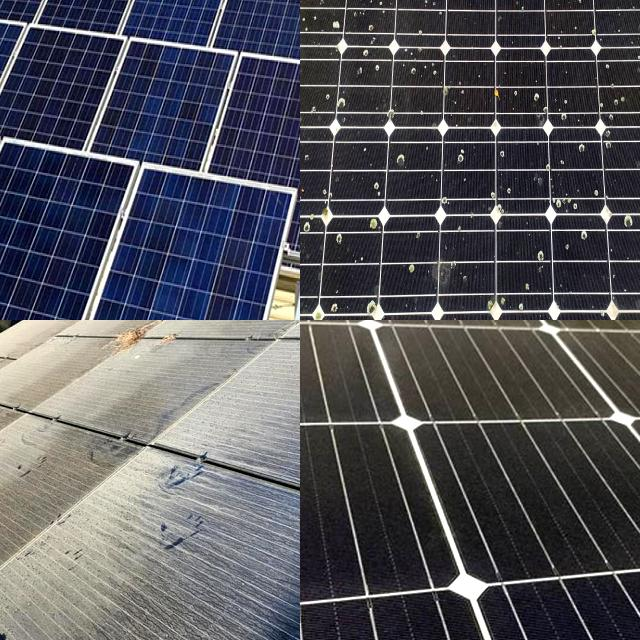bird: (300, 208, 319, 281), (614, 202, 638, 250), (401, 248, 427, 286), (510, 243, 548, 266), (390, 144, 409, 170), (300, 230, 308, 278)
crack: (0, 0, 300, 320), (383, 400, 640, 617), (300, 414, 491, 640), (359, 320, 640, 459), (32, 190, 297, 320), (0, 139, 173, 320), (0, 93, 89, 316), (300, 320, 426, 453), (541, 320, 640, 451), (591, 401, 640, 624)
dust: (49, 511, 300, 640), (73, 346, 223, 426), (0, 442, 121, 521), (168, 320, 292, 353), (0, 356, 44, 427), (189, 320, 297, 348)
